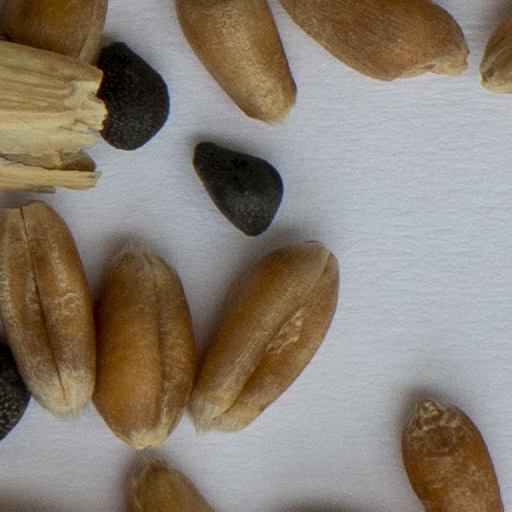Peel-poly: (0, 40, 101, 188)
